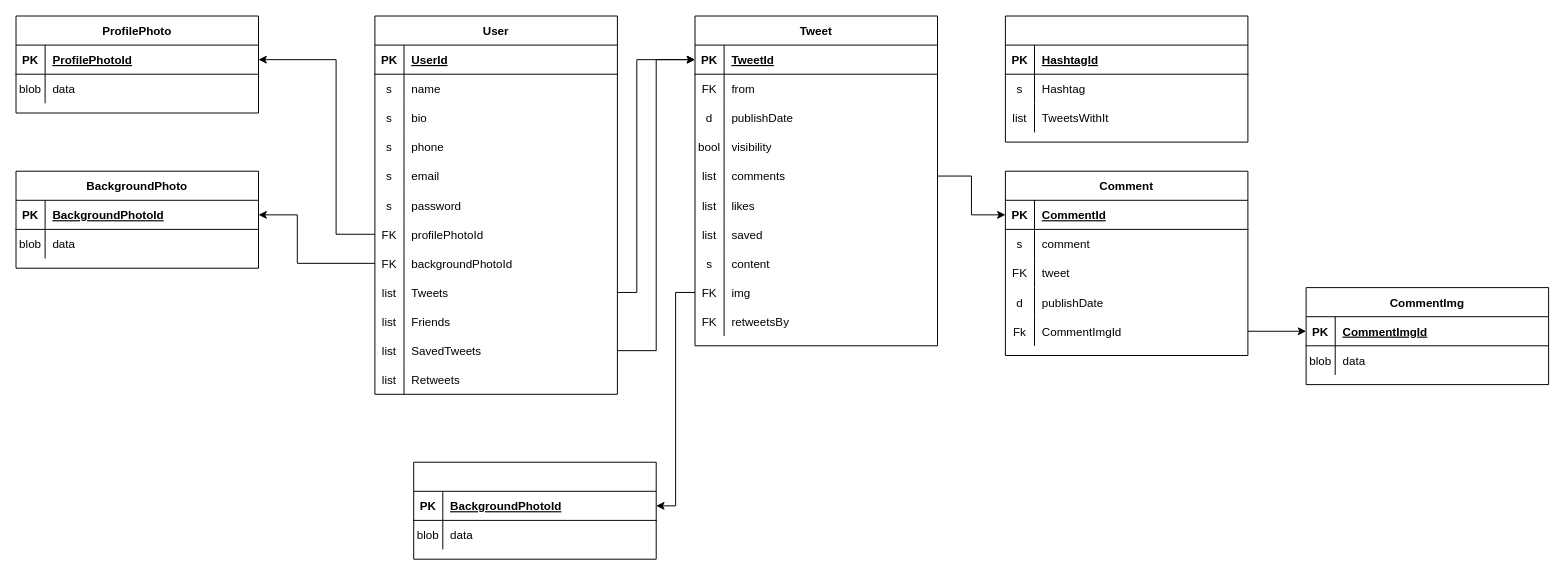
Image size: 1565x575. Some labels were removed from this diagram. Each missing label, with the box of its shape:
Hastag: (1004, 15, 1248, 142)
TweetImg: (413, 461, 656, 559)
